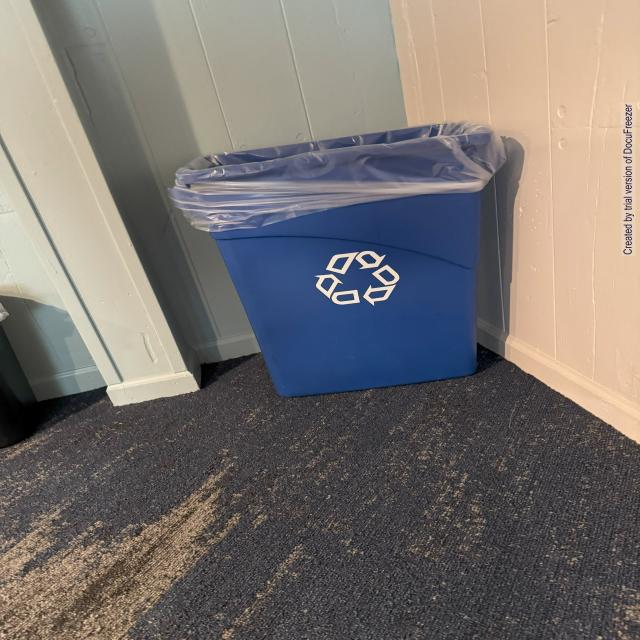Trash bin: (157, 110, 561, 427)
